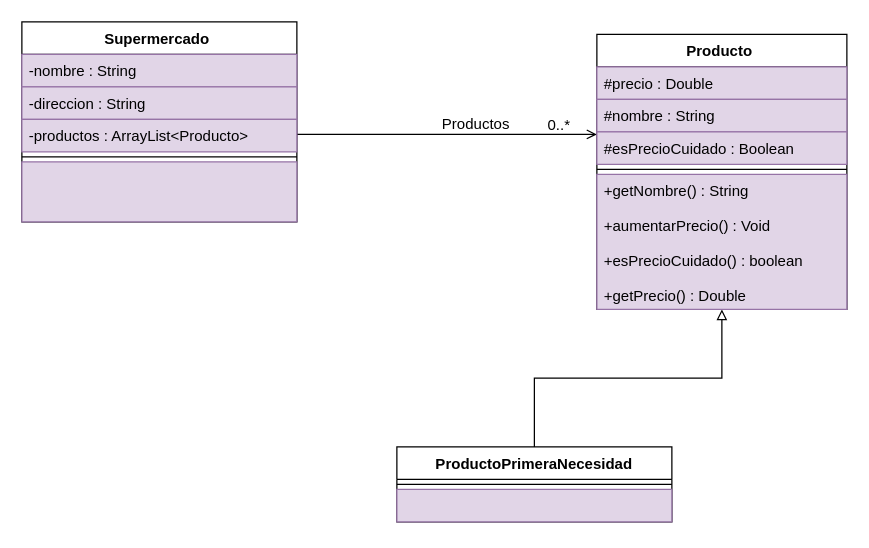
Image size: 869x548. Some labels were removed from this diagram. The shapes that lost their labels are listed below. From the top down, each one's centre as x and y in pixels, then its label:
At (159,191): "+getCantidadProductos() :Int +getPrecioTotal() :Double".
At (534,505): "+getPrecio(): Double".
